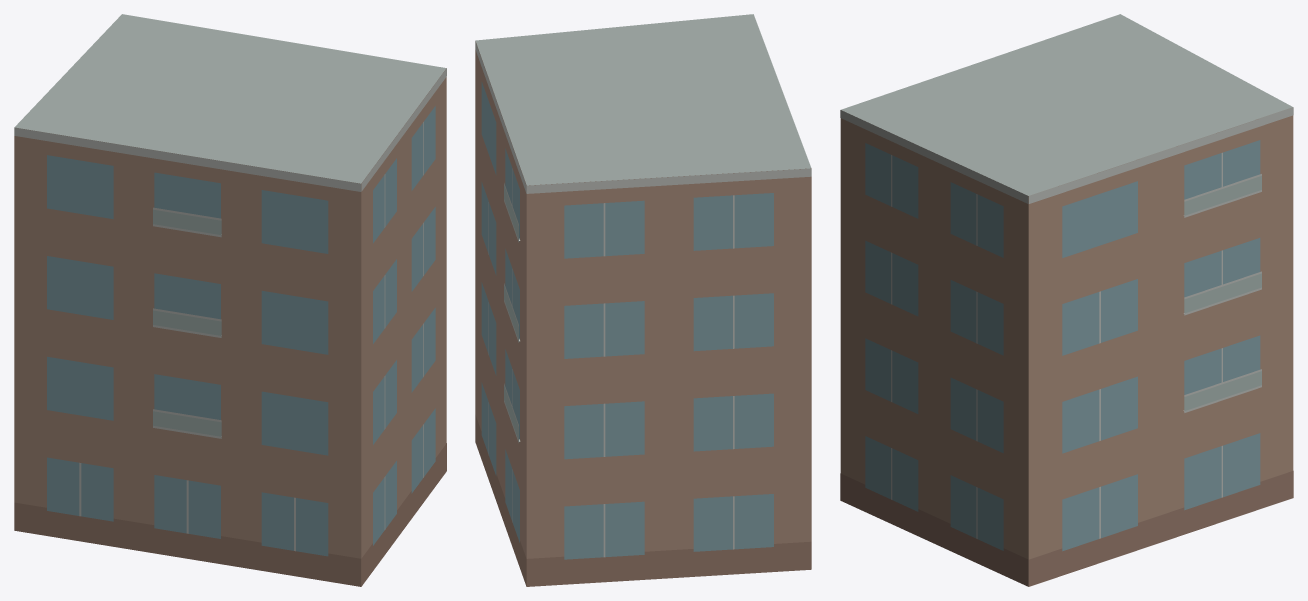
The model's file is survey-upis-32892342.glb.
3 renders of one model, left to right at view 1: azimuth 30°, elevation 25°; view 2: azimuth 150°, elevation 25°; view 3: azimuth 270°, elevation 25°, orthographic. The views are drawn at different scales.
Visible parts, largest first — view 1: survey-upis-32892342.tmp; view 2: survey-upis-32892342.tmp; view 3: survey-upis-32892342.tmp.
Boxes of the visible parts, x1,y1,x2,y2 form: survey-upis-32892342.tmp: (14,14,446,586); survey-upis-32892342.tmp: (475,14,811,586); survey-upis-32892342.tmp: (840,14,1293,586).
Size of the model in its own units: 11.7 by 11.7 by 12.3.
